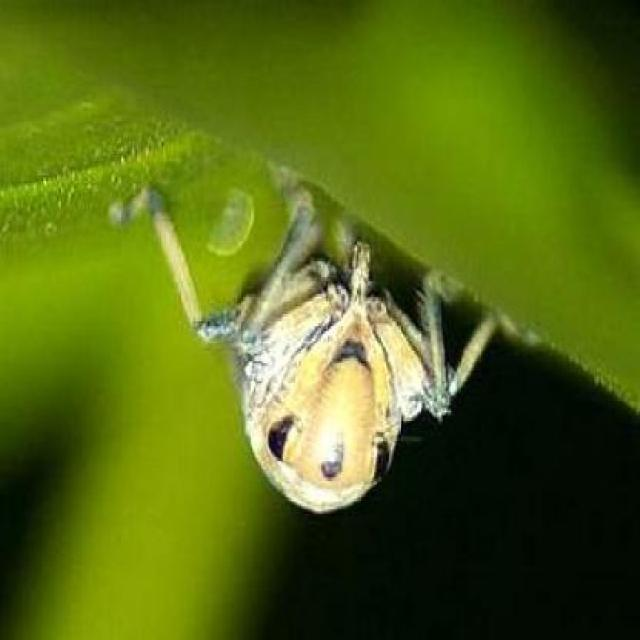green-leafhopper: (156, 172, 489, 508)
